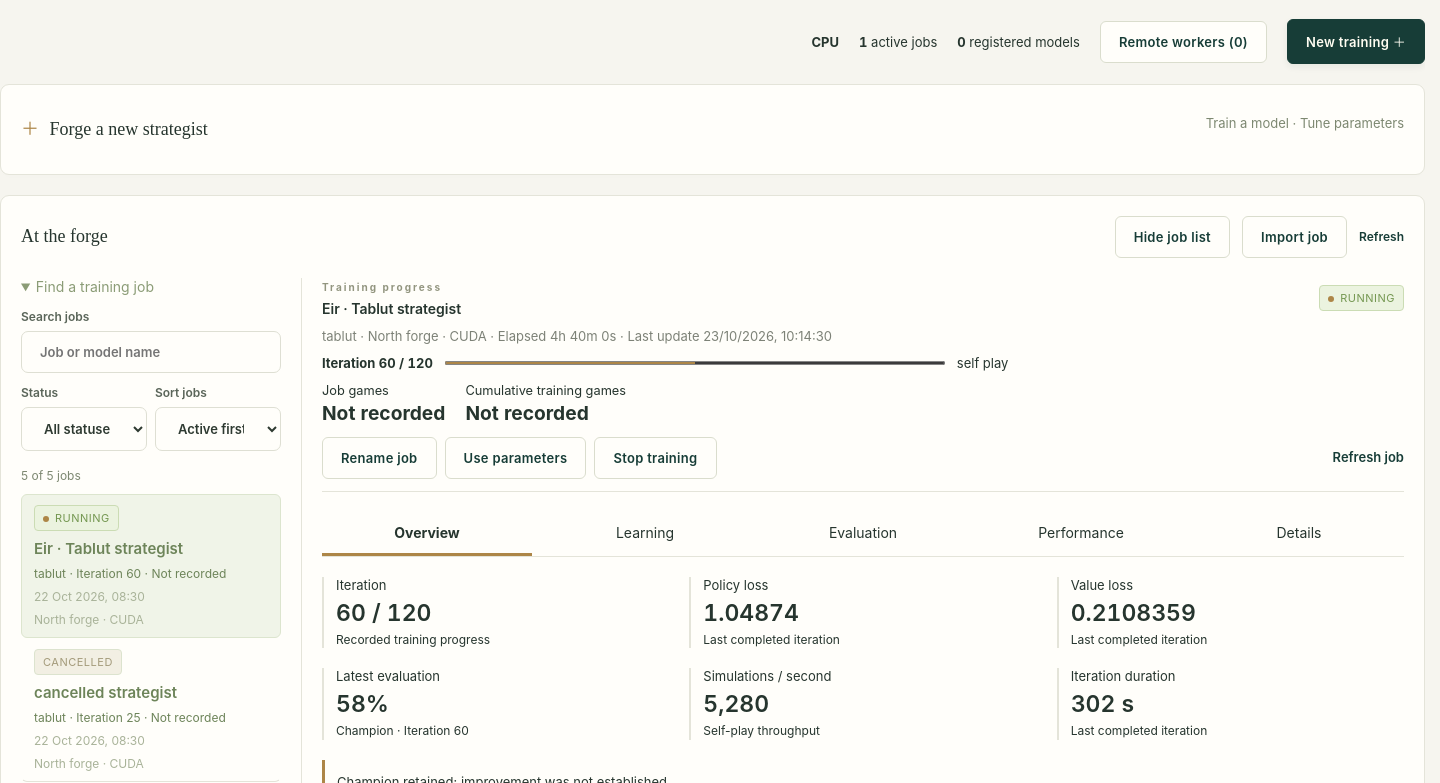
Test: preserves a newly selected tab across repeated job switches
Step 1. Click the tab "Details" → (1299, 534), box [1194,512,1404,556]
(page scrolled)
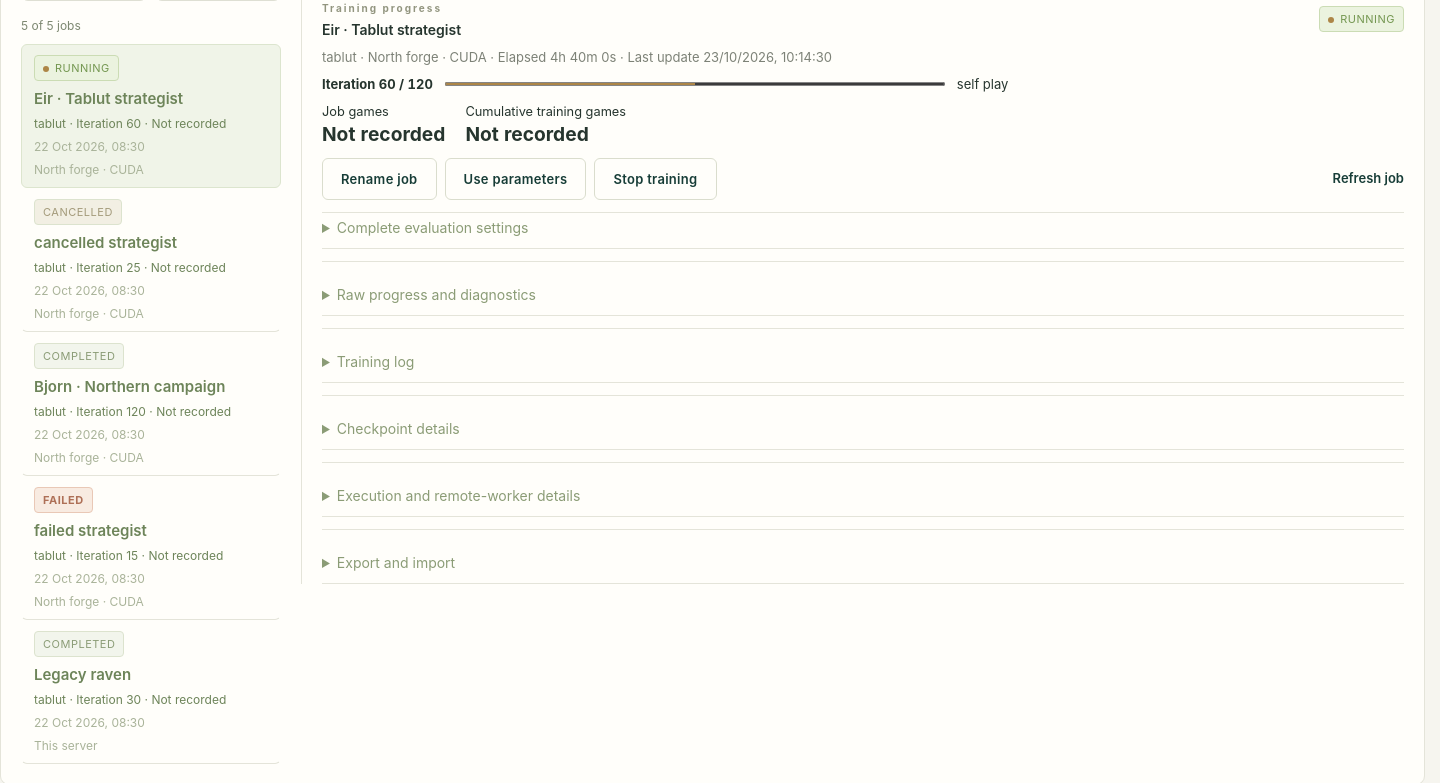
Step 2. Click the button "Bjorn · Northern campaign" → (151, 404), box [21,332,281,476]
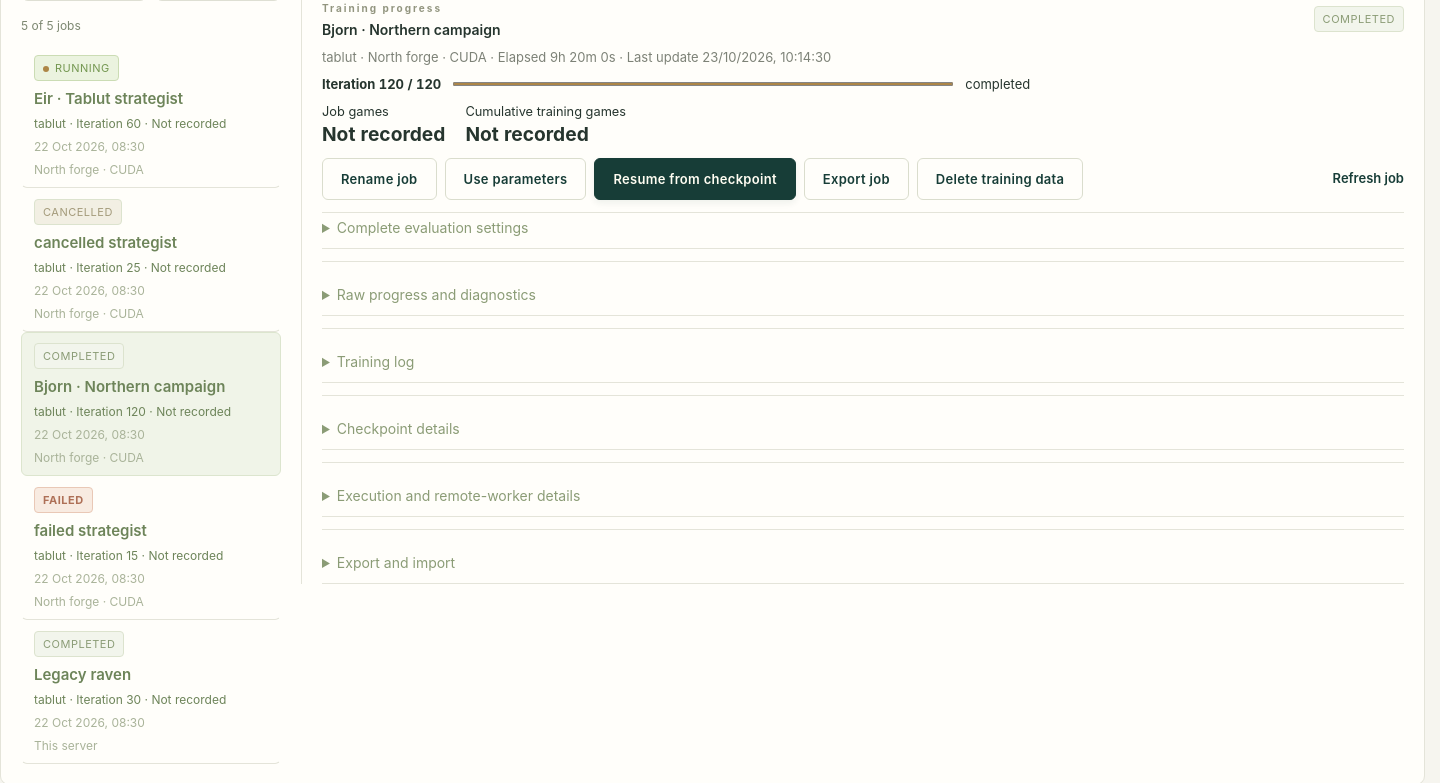
Check: the heading "Bjorn · Northern campaign" is shown, box [322,20,501,40]
Step 3. Click the button "Legacy raven" → (151, 692), box [21,620,281,764]
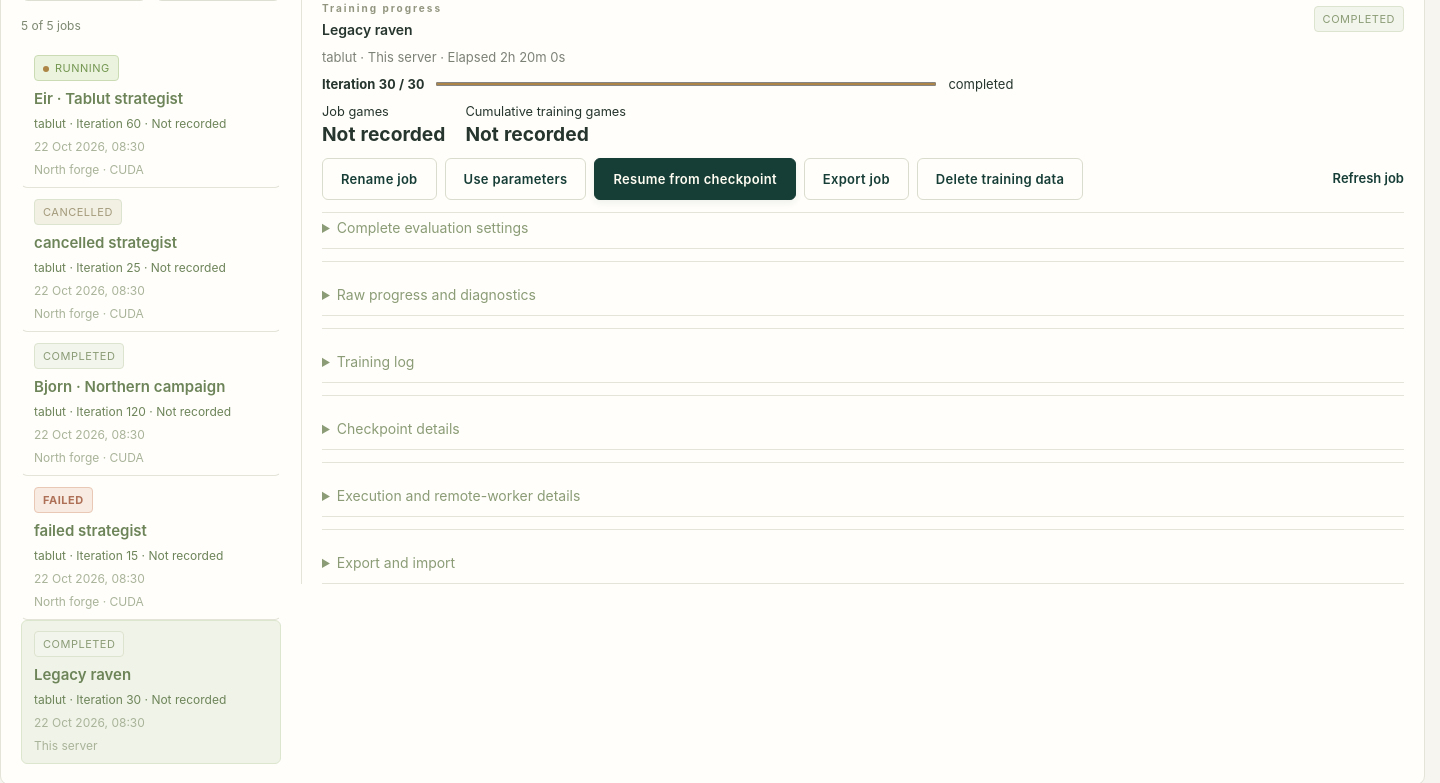
Check: the heading "Legacy raven" is shown, box [322,21,413,38]
Step 4. Click the button "failed strategist" → (151, 548), box [21,476,281,620]
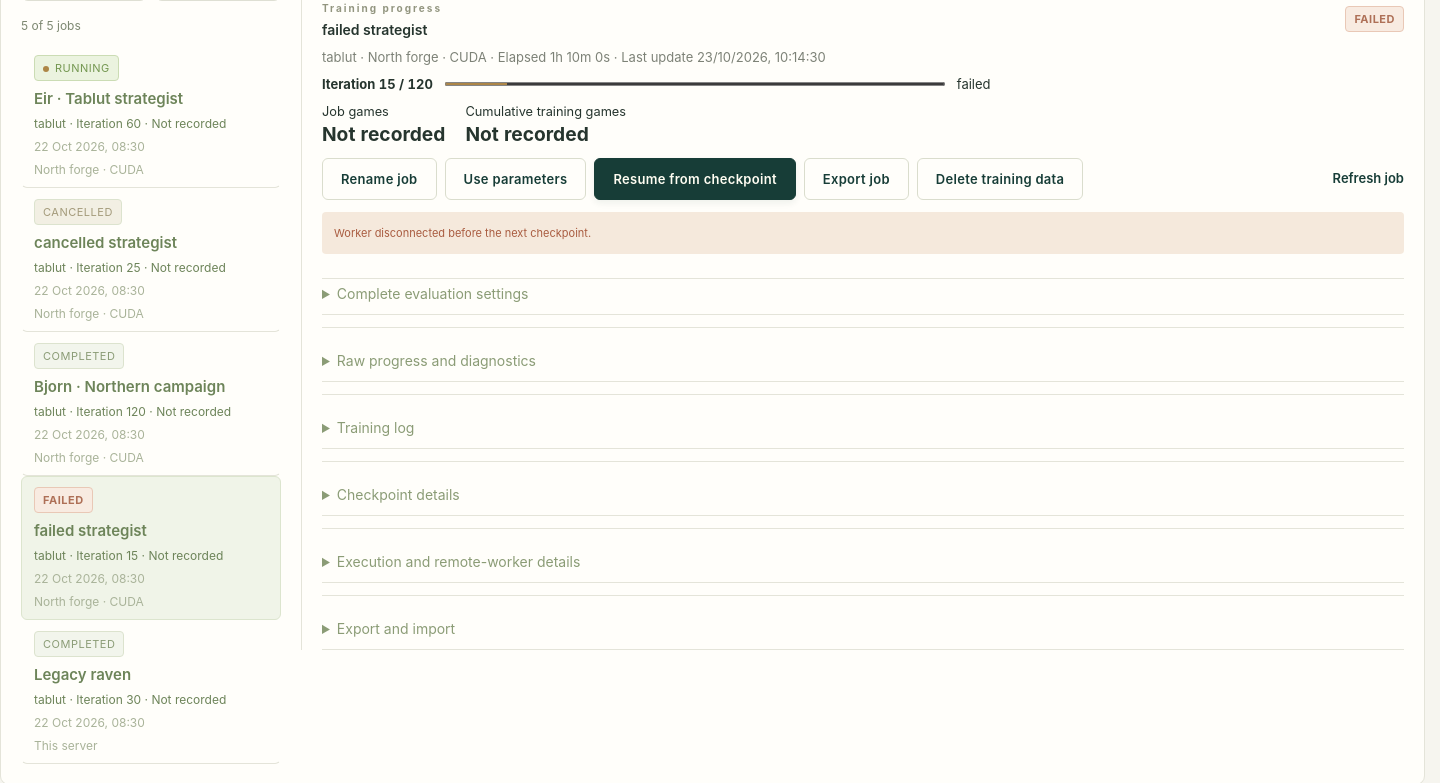
Check: the heading "failed strategist" is shown, box [322,20,442,40]
Step 5. Click the button "cancelled strategist" → (151, 260), box [21,188,281,332]
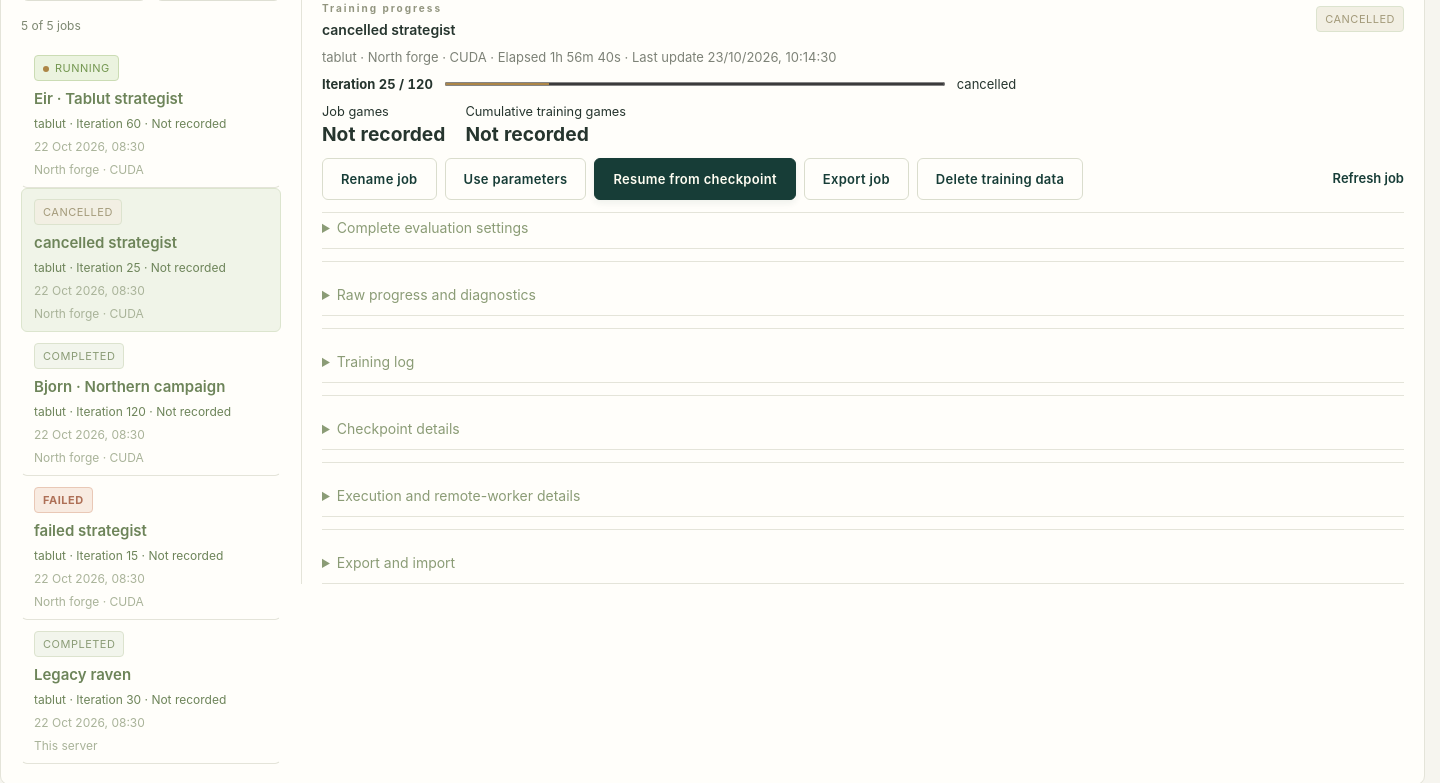
Check: the heading "cancelled strategist" is shown, box [322,20,455,40]
Step 6. Click the button "Eir · Tablut strategist" → (151, 116), box [21,44,281,188]
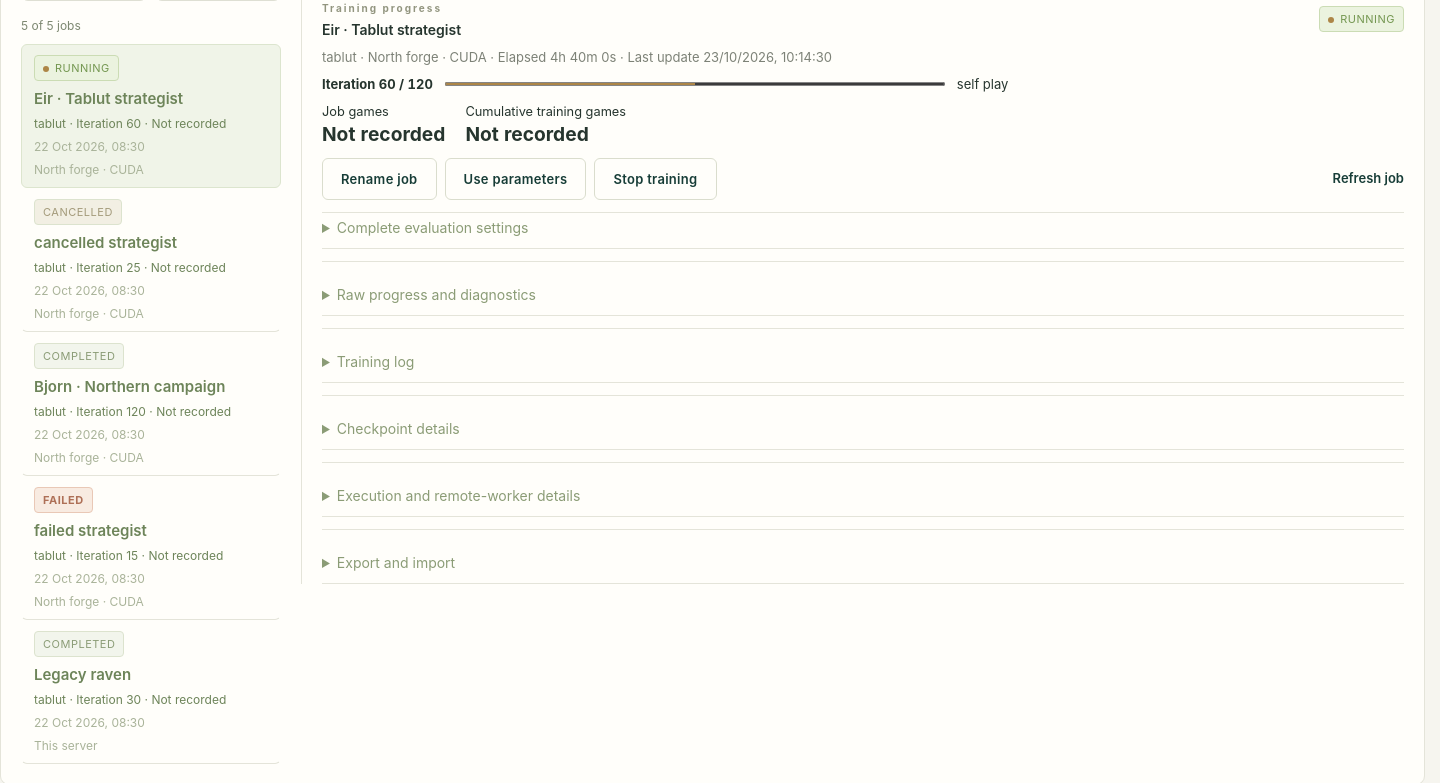
Check: the element with class "training-details" is shown, box [322,127,1404,584]
Check: the heading "Eir · Tablut strategist" is shown, box [322,20,461,40]
